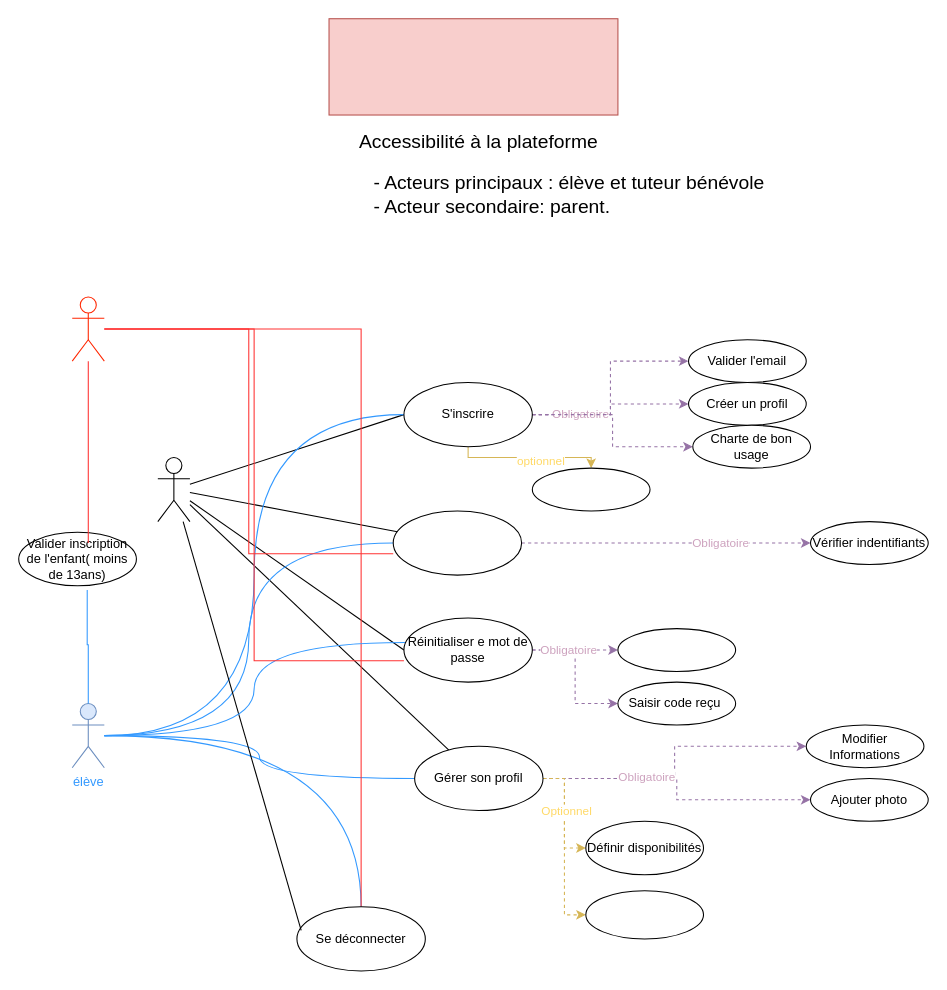
Some shapes in this 947 by 990 pixel diagram are drawn without their labels. The centre of each missing label's shape, as x and y in pixels:
Authentification: the point at 473,66
Choisir matières: the point at 644,914
Envoyer email: the point at 676,649
Parent: the point at 87,328
questionnaire: the point at 590,489
Se connecter: the point at 457,542
Tuteur: the point at 173,489
